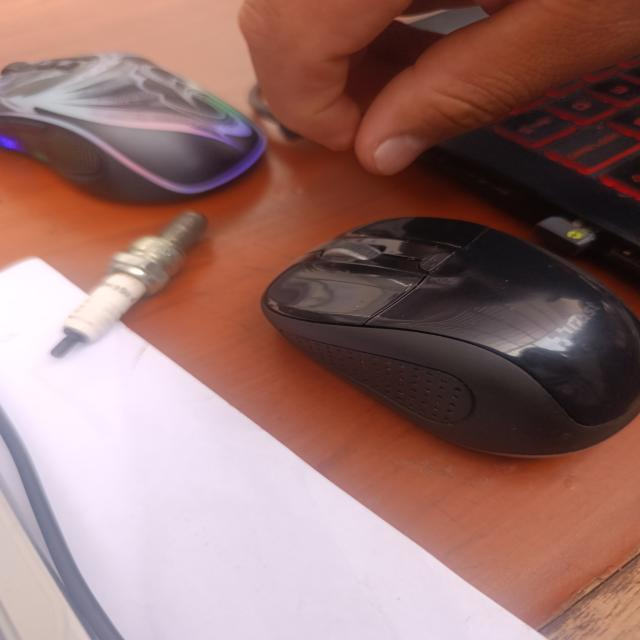bujia: (51, 211, 208, 358)
